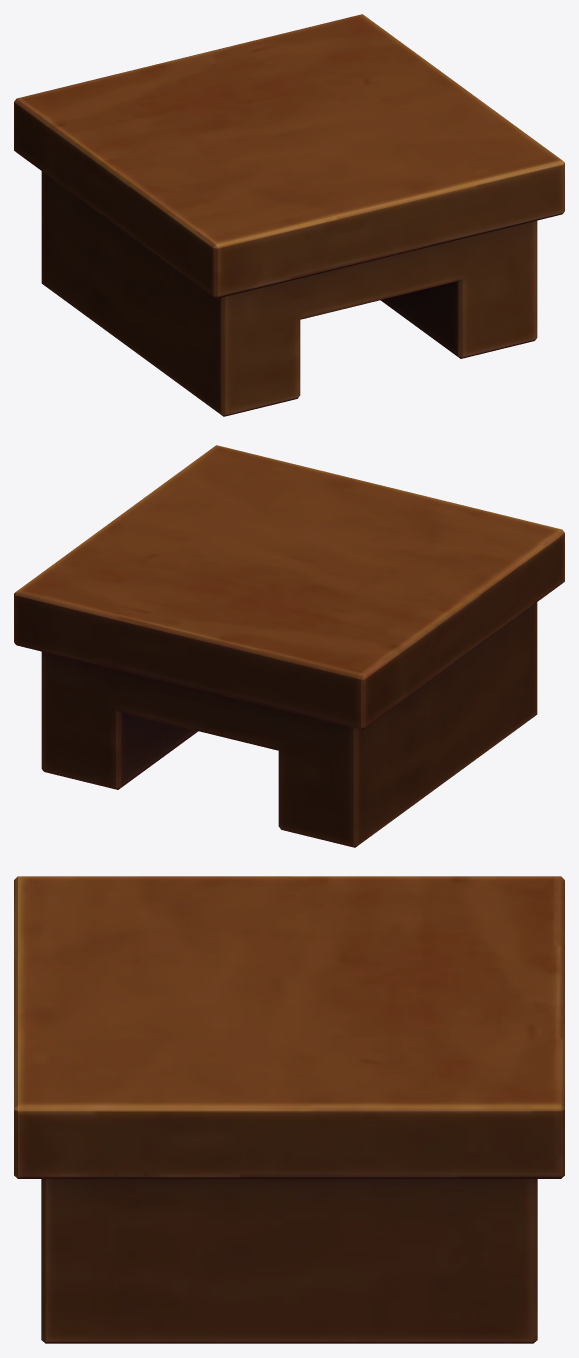
The model's file is baseTable.glb.
3 renders of one model, top to bottom at view 1: azimuth 30°, elevation 25°; view 2: azimuth 150°, elevation 25°; view 3: azimuth 270°, elevation 25°, orthographic. The views are drawn at different scales.
Parts seen in each view (by area): view 1: 9; view 2: 9; view 3: 9.
Boxes of the visible parts, left/top/right/bottom form: 9: left=14, top=14, right=564, bottom=416; 9: left=14, top=445, right=564, bottom=847; 9: left=14, top=876, right=564, bottom=1343.
Size of the model in its own units: 2 by 1 by 2.
1 material, 1 textured.
